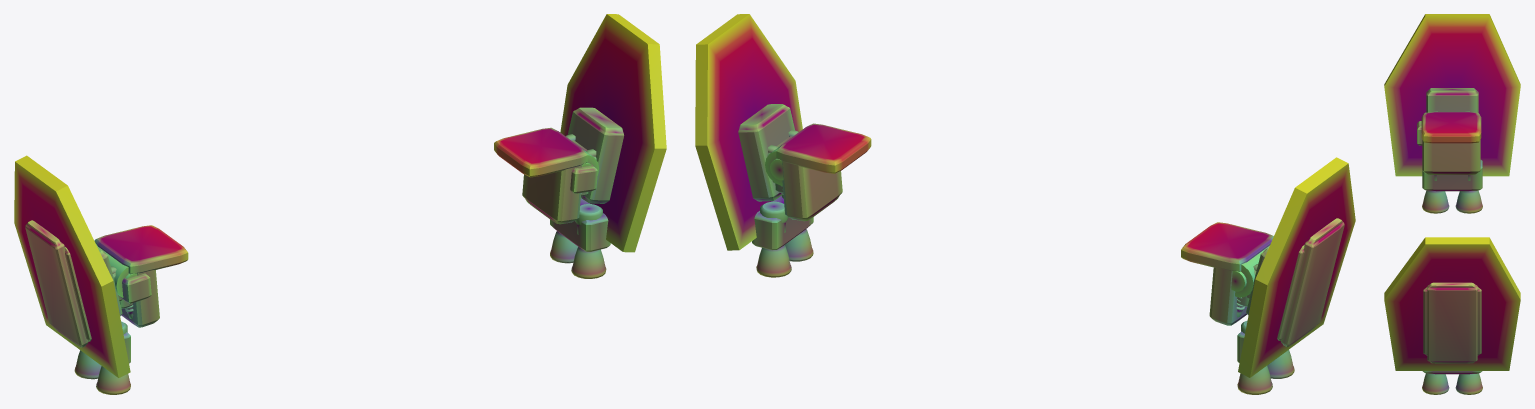
Rendered from llm_gen_shoulder_pods_051_9730ac.glb.
3 views of the same model, side by side, from view 1: azimuth 30°, elevation 25°; view 2: azimuth 150°, elevation 25°; view 3: azimuth 270°, elevation 25° (orthographic). The views are drawn at different scales.
Parts seen in each view (by area): view 1: binder_shield_wing_2_wing_white_r, binder_shield_wing_2_wing_white_l, adapter_shoulder_yoke_r, adapter_shoulder_yoke_l, binder_trim_blue_4_cobalt_anodized_l, adapter_sub_wing_clevis_dark_1_adapter_dark_r, adapter_sub_exhaust_pod_dark_5_adapter_dark_r, binder_vernier_b_7_vernier_bell_vernier_r, adapter_sh_front_latch_dark_8_adapter_dark_l, binder_vernier_b_7_vernier_bell_vernier_l, adapter_sh_front_latch_dark_8_adapter_dark_r, binder_vernier_a_6_vernier_bell_vernier_r (+1 smaller); view 2: binder_shield_wing_2_wing_white_r, binder_shield_wing_2_wing_white_l, adapter_shoulder_yoke_r, adapter_shoulder_yoke_l, binder_trim_blue_4_cobalt_anodized_l, adapter_sub_wing_clevis_dark_1_adapter_dark_r, adapter_sub_exhaust_pod_dark_5_adapter_dark_r, binder_vernier_a_6_vernier_bell_vernier_r, binder_vernier_a_6_vernier_bell_vernier_l, binder_vernier_b_7_vernier_bell_vernier_r, adapter_sub_trim_clamp_dark_3_adapter_dark_l; view 3: binder_shield_wing_2_wing_white_l, binder_shield_wing_2_wing_white_r, binder_trim_blue_4_cobalt_anodized_r, adapter_shoulder_yoke_l, adapter_sub_wing_clevis_dark_1_adapter_dark_l, adapter_sub_exhaust_pod_dark_5_adapter_dark_l, adapter_sub_trim_clamp_dark_3_adapter_dark_r, binder_vernier_a_6_vernier_bell_vernier_l, binder_vernier_b_7_vernier_bell_vernier_l, binder_vernier_a_6_vernier_bell_vernier_r, binder_vernier_b_7_vernier_bell_vernier_r, adapter_sub_exhaust_pod_dark_5_adapter_dark_r.
Boxes of the visible parts, x1,y1,x2,y2 form: binder_shield_wing_2_wing_white_r: (560,14,666,252); binder_shield_wing_2_wing_white_l: (14,155,130,377); adapter_shoulder_yoke_r: (494,127,598,224); adapter_shoulder_yoke_l: (94,225,188,327); binder_trim_blue_4_cobalt_anodized_l: (25,220,88,347); adapter_sub_wing_clevis_dark_1_adapter_dark_r: (567,107,624,203); adapter_sub_exhaust_pod_dark_5_adapter_dark_r: (550,198,610,251); binder_vernier_b_7_vernier_bell_vernier_r: (571,247,606,278); adapter_sh_front_latch_dark_8_adapter_dark_l: (121,273,151,303); binder_vernier_b_7_vernier_bell_vernier_l: (96,366,130,394); adapter_sh_front_latch_dark_8_adapter_dark_r: (570,164,597,193); binder_vernier_a_6_vernier_bell_vernier_r: (550,231,577,263); binder_shield_wing_2_wing_white_r: (695,14,802,250); binder_shield_wing_2_wing_white_l: (1238,157,1355,377); adapter_shoulder_yoke_r: (765,123,871,221); adapter_shoulder_yoke_l: (1181,222,1273,325); binder_trim_blue_4_cobalt_anodized_l: (1280,218,1344,347); adapter_sub_wing_clevis_dark_1_adapter_dark_r: (738,104,794,201); adapter_sub_exhaust_pod_dark_5_adapter_dark_r: (752,196,813,250); binder_vernier_a_6_vernier_bell_vernier_r: (756,245,791,277); binder_vernier_a_6_vernier_bell_vernier_l: (1237,366,1272,394); binder_vernier_b_7_vernier_bell_vernier_r: (785,229,813,261); adapter_sub_trim_clamp_dark_3_adapter_dark_l: (1277,245,1304,340); binder_shield_wing_2_wing_white_l: (1384,14,1520,176); binder_shield_wing_2_wing_white_r: (1384,237,1520,370); binder_trim_blue_4_cobalt_anodized_r: (1427,282,1477,363); adapter_shoulder_yoke_l: (1421,112,1481,174); adapter_sub_wing_clevis_dark_1_adapter_dark_l: (1426,88,1478,112); adapter_sub_exhaust_pod_dark_5_adapter_dark_l: (1422,160,1482,191); adapter_sub_trim_clamp_dark_3_adapter_dark_r: (1423,287,1481,355); binder_vernier_a_6_vernier_bell_vernier_l: (1455,190,1482,213); binder_vernier_b_7_vernier_bell_vernier_l: (1422,190,1449,213); binder_vernier_a_6_vernier_bell_vernier_r: (1455,373,1482,394); binder_vernier_b_7_vernier_bell_vernier_r: (1422,373,1449,394); adapter_sub_exhaust_pod_dark_5_adapter_dark_r: (1422,371,1482,374).
Bounding box in the file's own units: 119 × 41.45 × 29.81.
